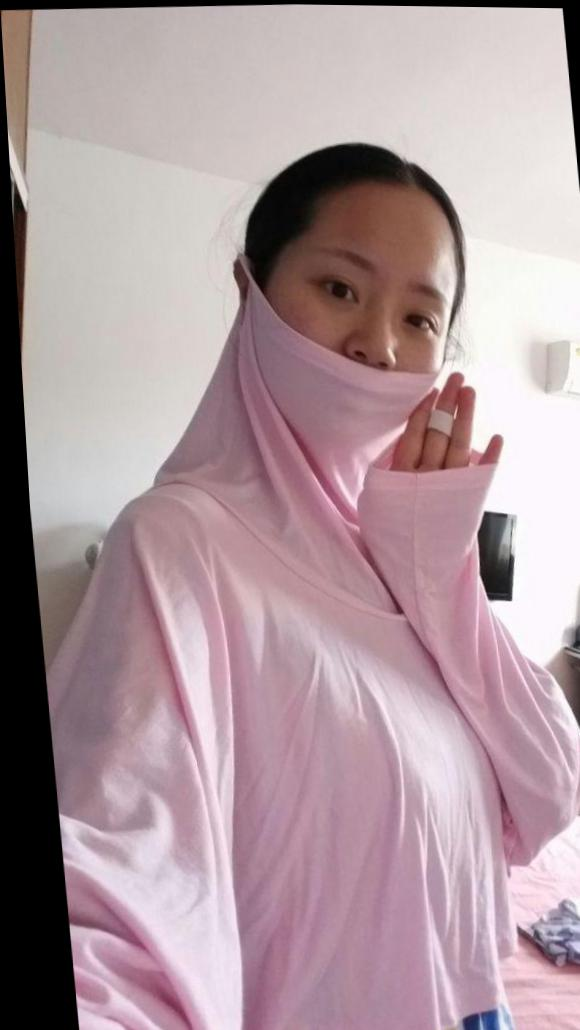WRONG: (250, 236, 460, 460)
